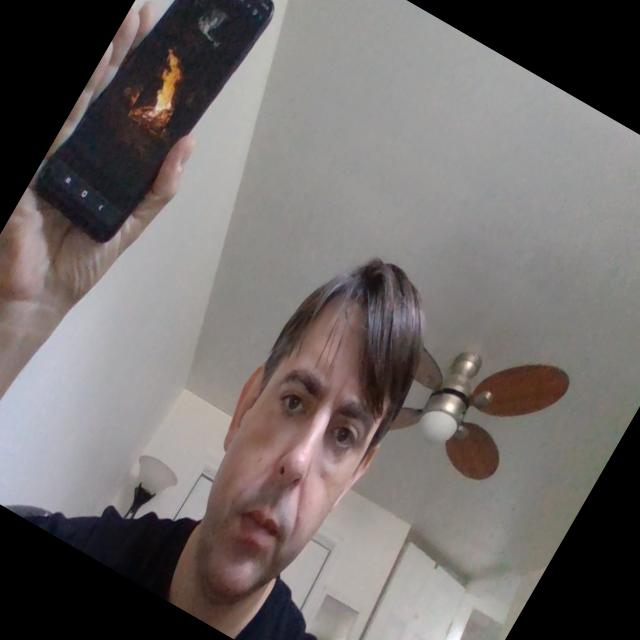Fire: (126, 39, 204, 135)
